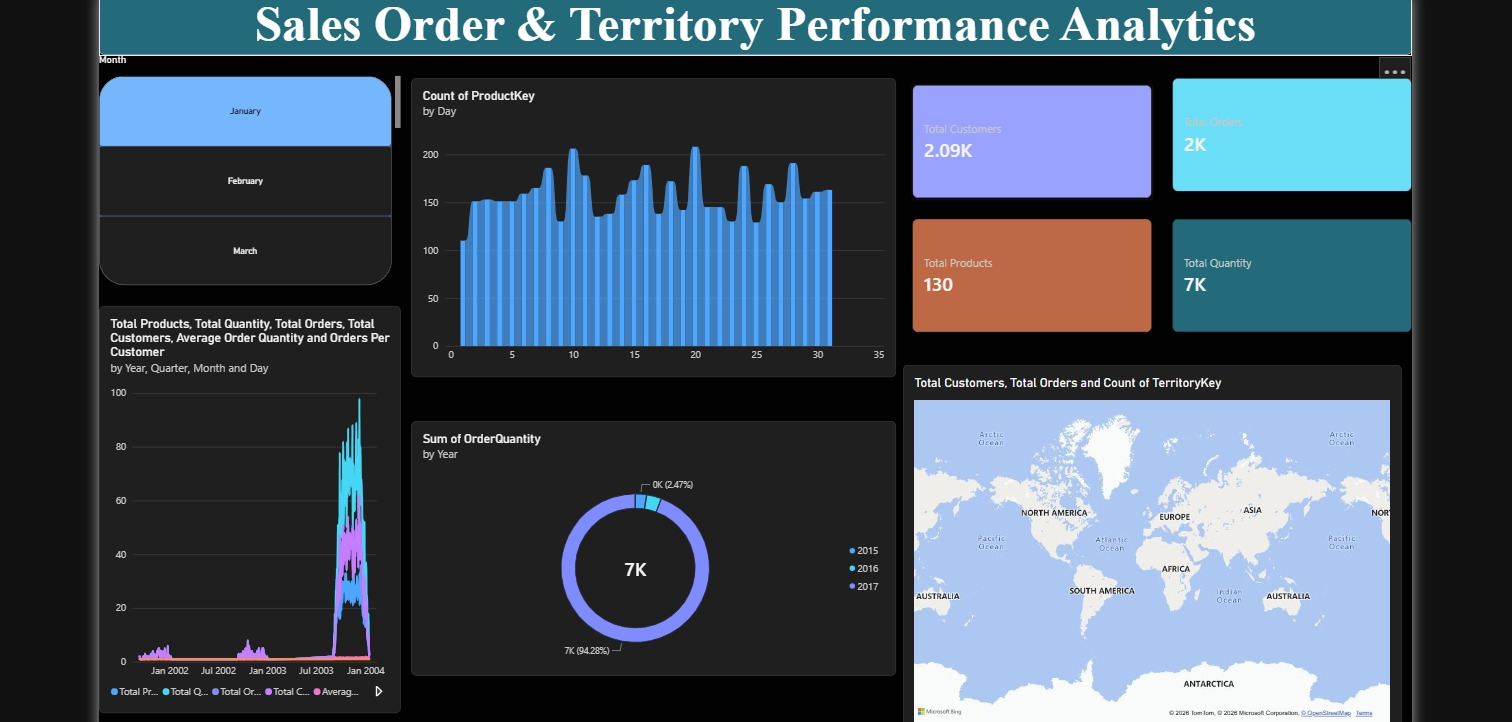

Layout of this report page (visuals, bound fields, positions):
{"tool":"powerbi","page":{"name":"Page 1","canvas":[1920,1080],"ordinal":0},"visuals":[{"type":"textbox","box":[0,0,1920.3,87.3],"z":0},{"type":"ribbonChart","fields":{"Category":["gold_extsales.OrderDate.Variation.Date Hierarchy.Day"],"Y":["CountNonNull(gold_extsales.ProductKey)"]},"box":[456.6,121.5,709.3,437],"z":1},{"type":"donutChart","fields":{"Category":["gold extsales.OrderDate.Variation.Date Hierarchy.Year"],"Y":["Sum(gold extsales.OrderQuantity)"]},"box":[456.6,623.1,709.3,372.3],"z":2},{"type":"cardVisual","fields":{"Data":["gold_extsales.Total Orders"]},"box":[1569.2,121.9,350.8,166.5],"z":3},{"type":"cardVisual","fields":{"Data":["gold_extsales.Total Products"]},"box":[1189.1,327,350.8,166.5],"z":4},{"type":"cardVisual","fields":{"Data":["gold_extsales.Total Customers"]},"box":[1189.1,130.8,350.8,166.5],"z":5},{"type":"cardVisual","fields":{"Data":["gold_extsales.Total Quantity"]},"box":[1569.6,327,350.8,166.5],"z":6},{"type":"advancedSlicerVisual","fields":{"Values":["gold_extsales.OrderDate.Variation.Date Hierarchy.Month"]},"box":[0,86.9,441.3,340.4],"z":7},{"type":"map","fields":{"Size":["gold_extsales.Total Customers"]},"box":[1175.7,540.8,728.9,538.9],"z":8},{"type":"lineChart","fields":{"Category":["gold_extsales.StockDate.Variation.Date Hierarchy.Year","gold_extsales.StockDate.Variation.Date Hierarchy.Quarter","gold_extsales.StockDate.Variation.Date Hierarchy.Month","gold_extsales.StockDate.Variation.Date Hierarchy.Day"],"Y":["gold_extsales.Total Products","gold_extsales.Total Quantity","gold_extsales.Total Orders","gold_extsales.Total Customers","gold_extsales.Average Order Quantity","gold_extsales.Orders Per Customer"]},"box":[0,454.6,440.9,595.7],"z":9}]}

Visuals, with their boxes in screenshot pixels (x1, y1, x2, y2):
textbox: locate(98, 0, 1408, 52)
ribbonChart - gold_extsales.OrderDate.Variation.Date Hierarchy.Day x CountNonNull(gold_extsales.ProductKey): locate(410, 75, 894, 373)
donutChart - gold extsales.OrderDate.Variation.Date Hierarchy.Year x Sum(gold extsales.OrderQuantity): locate(410, 417, 894, 671)
cardVisual - gold_extsales.Total Orders: locate(1169, 75, 1408, 189)
cardVisual - gold_extsales.Total Products: locate(910, 215, 1149, 329)
cardVisual - gold_extsales.Total Customers: locate(910, 81, 1149, 195)
cardVisual - gold_extsales.Total Quantity: locate(1169, 215, 1408, 329)
advancedSlicerVisual - gold_extsales.OrderDate.Variation.Date Hierarchy.Month: locate(98, 51, 399, 284)
map - gold_extsales.Total Customers: locate(900, 361, 1398, 721)
lineChart - gold_extsales.StockDate.Variation.Date Hierarchy.Year x gold_extsales.StockDate.Variation.Date Hierarchy.Quarter: locate(98, 302, 399, 709)
